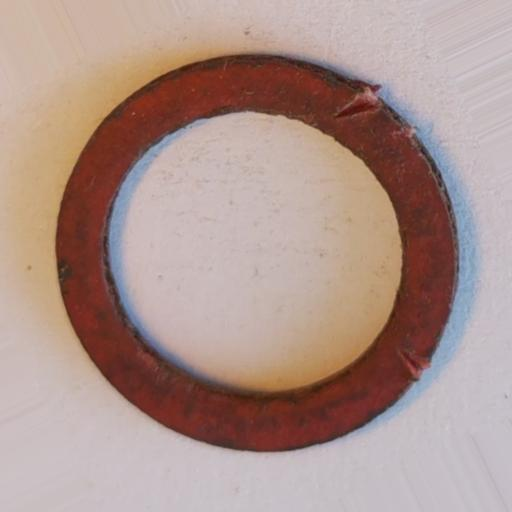defect: (333, 89, 380, 118), (399, 349, 428, 379)
